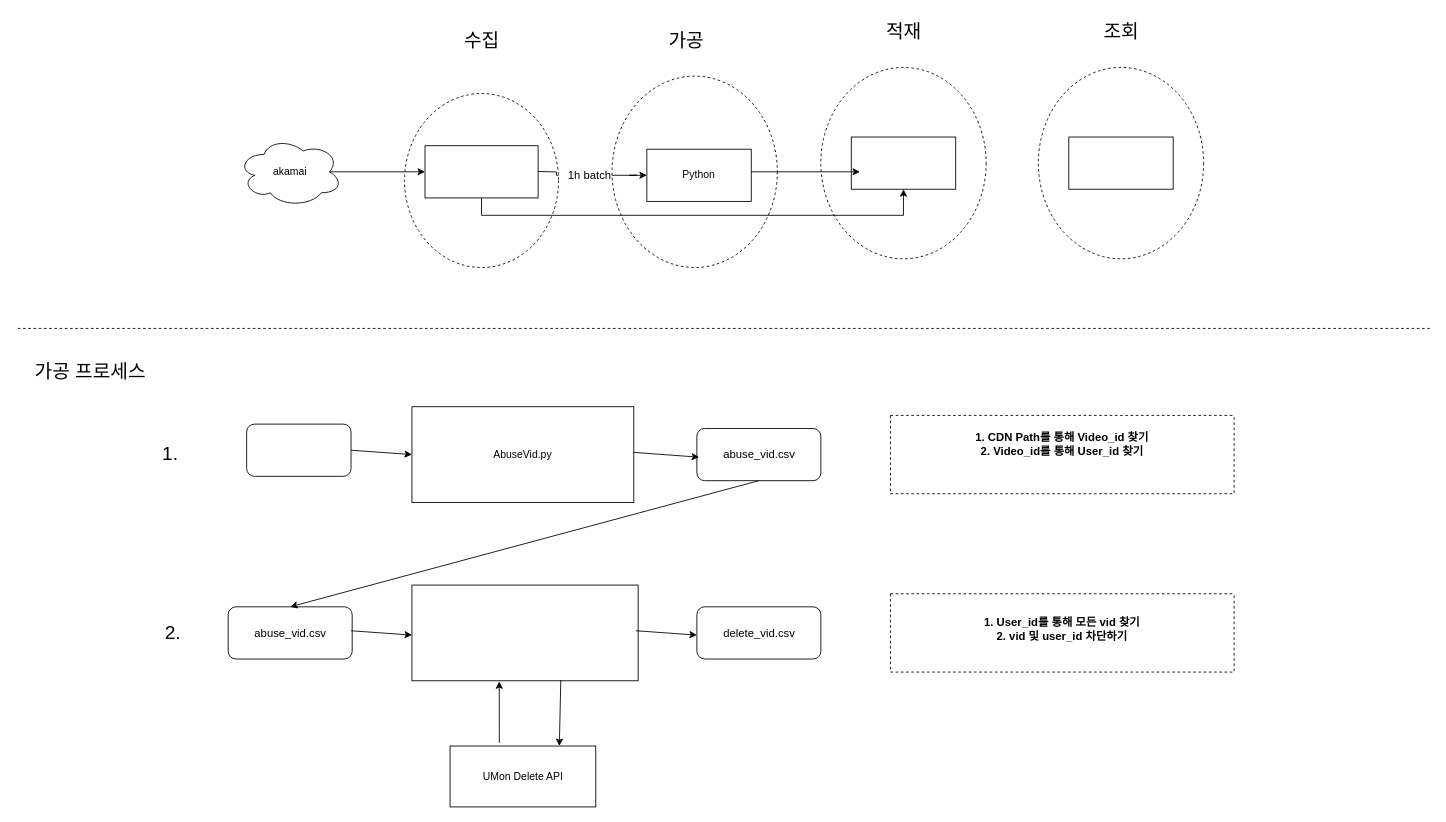
The diagram is 1446 pixels wide and 822 high, and some of its shapes have lost their labels. The centre of each missing label's shape, as x and y in pixels:
CDN Logs: (298,449)
CheckVid.py: (524,632)
FTP Server ( acdnftp001 ): (481,171)
Object Storage: (903,162)
TBD: (1120,162)
